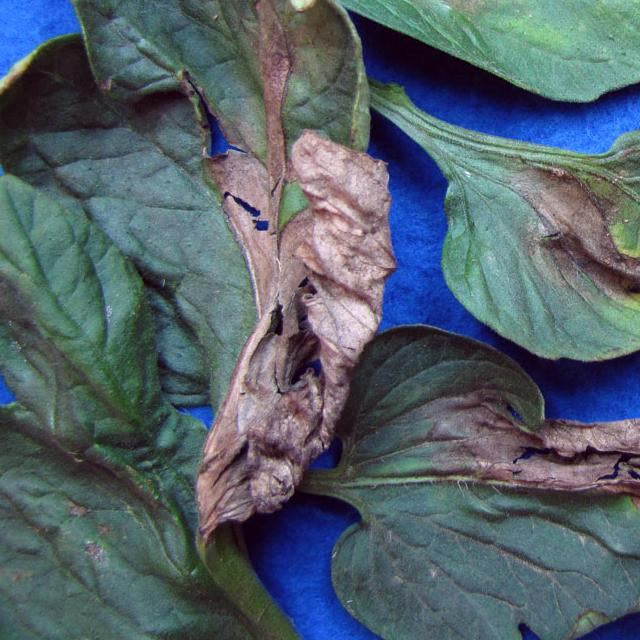Tomato leaf late blight: (0, 0, 400, 458), (260, 318, 640, 640), (392, 81, 640, 361), (256, 0, 640, 96)
